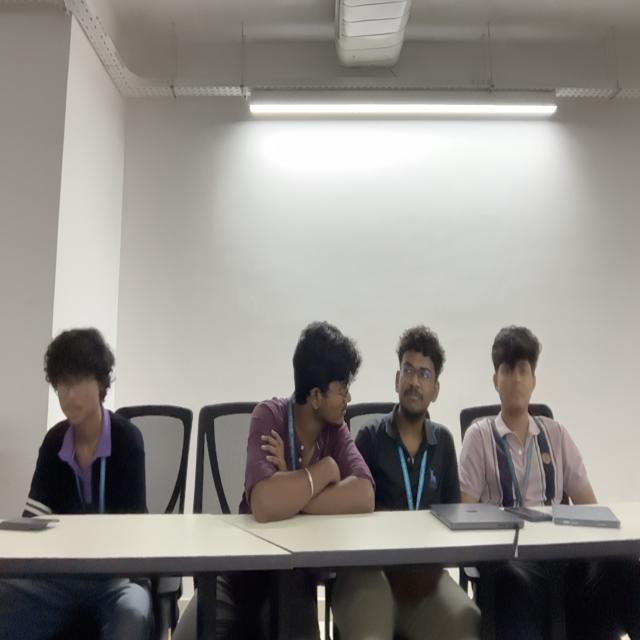Isolated: (23, 327, 149, 514)
socializing: (240, 320, 597, 516)
